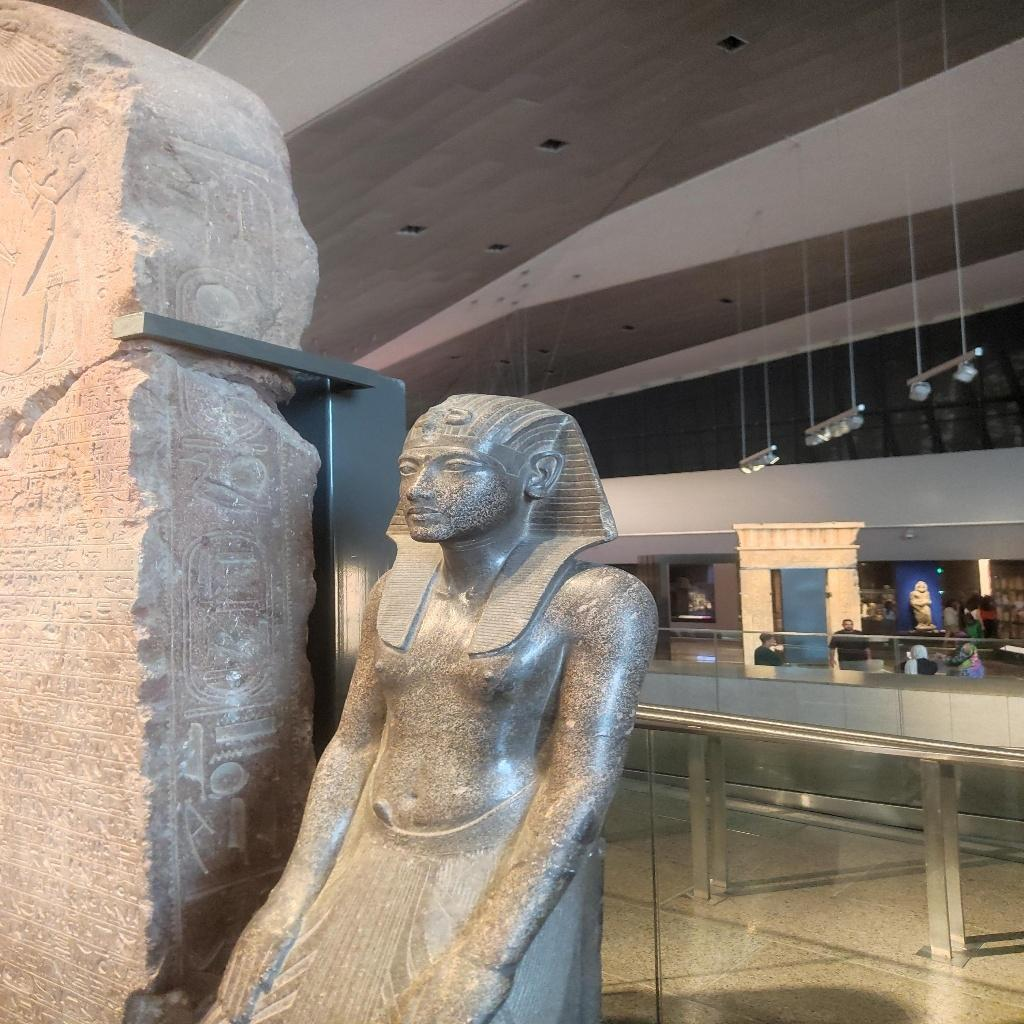Granite Statue of Tutankhamun: (196, 389, 662, 1022)
